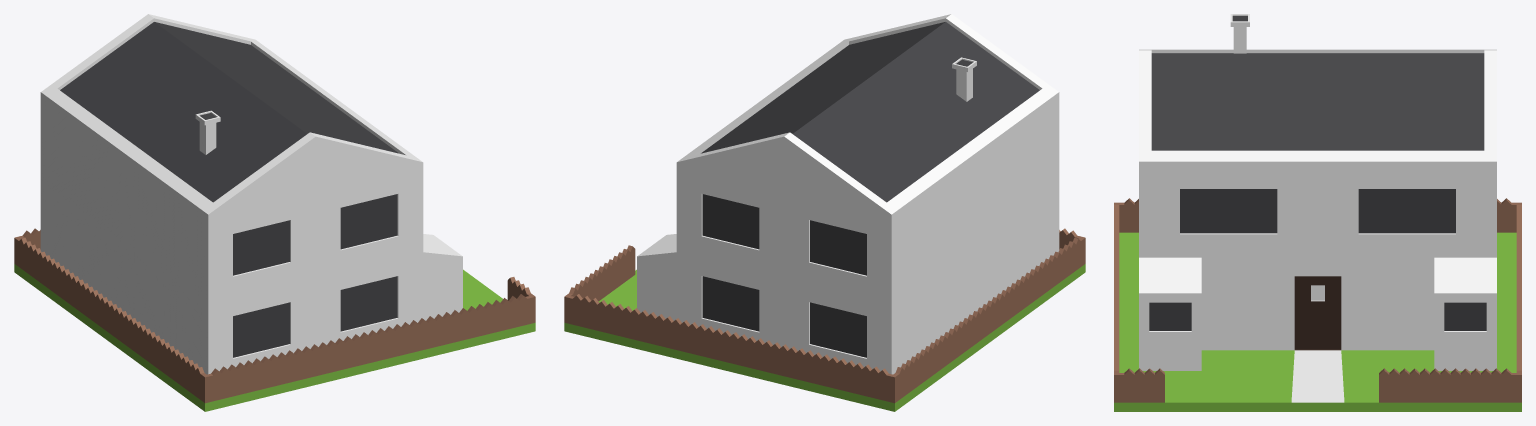
Rendered from house4_w_fence.fbx.
3 views of the same model, side by side, from view 1: azimuth 30°, elevation 25°; view 2: azimuth 150°, elevation 25°; view 3: azimuth 270°, elevation 25° (orthographic). The views are drawn at different scales.
Visible parts, largest first — view 1: house4_w_fence; view 2: house4_w_fence; view 3: house4_w_fence.
Part boxes in pixels (x1=…): house4_w_fence: x1=14, y1=14, x2=535, y2=411; house4_w_fence: x1=564, y1=14, x2=1085, y2=411; house4_w_fence: x1=1114, y1=14, x2=1521, y2=411.
Size of the model in its own units: 1000 by 687 by 1000.
